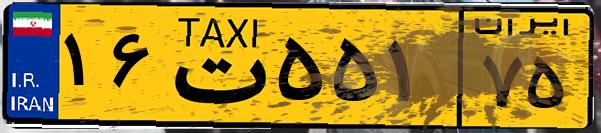1: (385, 28, 445, 110), (57, 26, 110, 100)
5: (270, 28, 330, 110), (330, 28, 385, 110), (525, 38, 570, 115)
6: (110, 28, 158, 98)
7: (475, 38, 525, 113)
ت: (158, 12, 270, 120)
